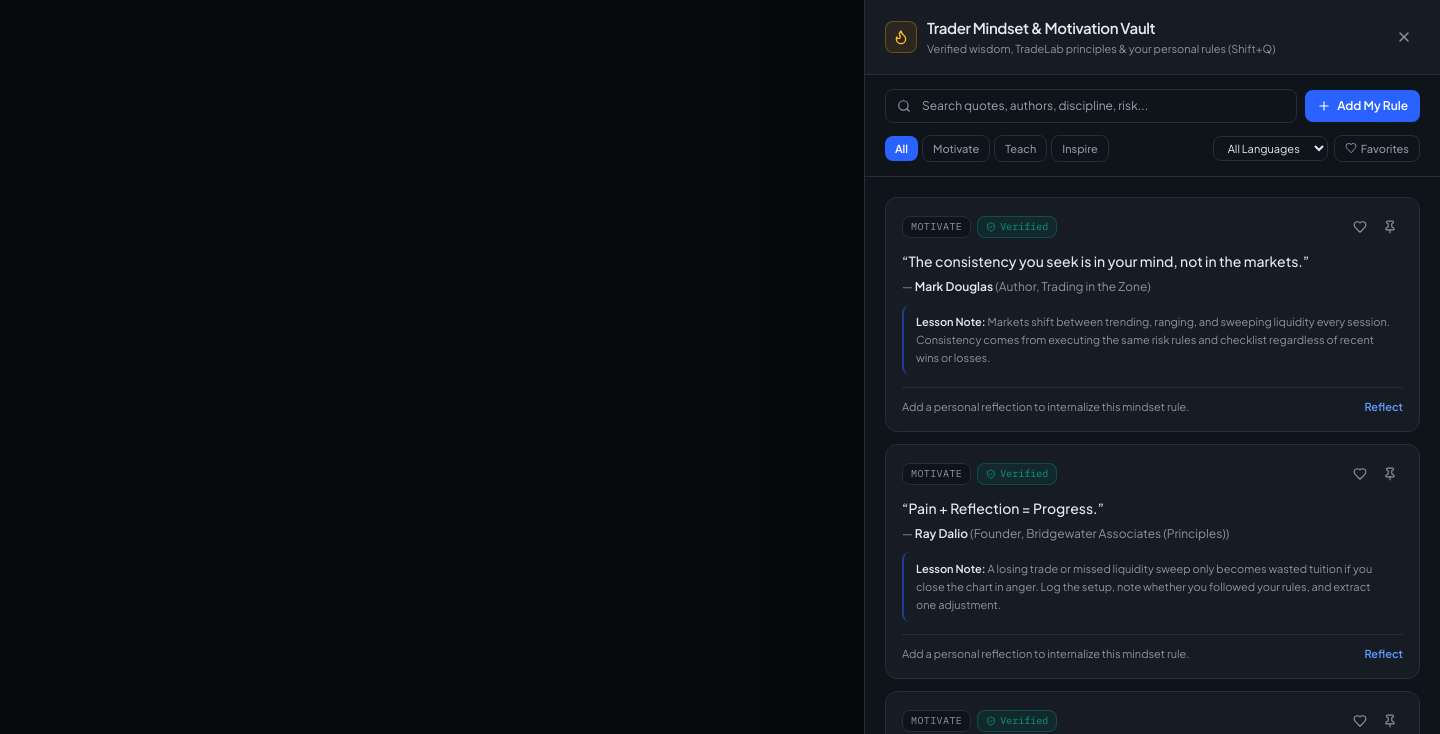
Test: MindsetVaultDrawer — filtering & custom personal trading rule creation › filters by Teach and creates and displays a custom personal trading rule
Expected: the heading "Trader Mindset & Motivation Vault" is shown, top-left (927, 18), bottom-right (1155, 37)
Expected: the element that starts with "motivate" is shown, top-left (885, 197), bottom-right (1420, 432)
Filter by Teach
Click the button "Teach" at coordinates (1021, 148), box top-left (994, 135), bottom-right (1047, 162)
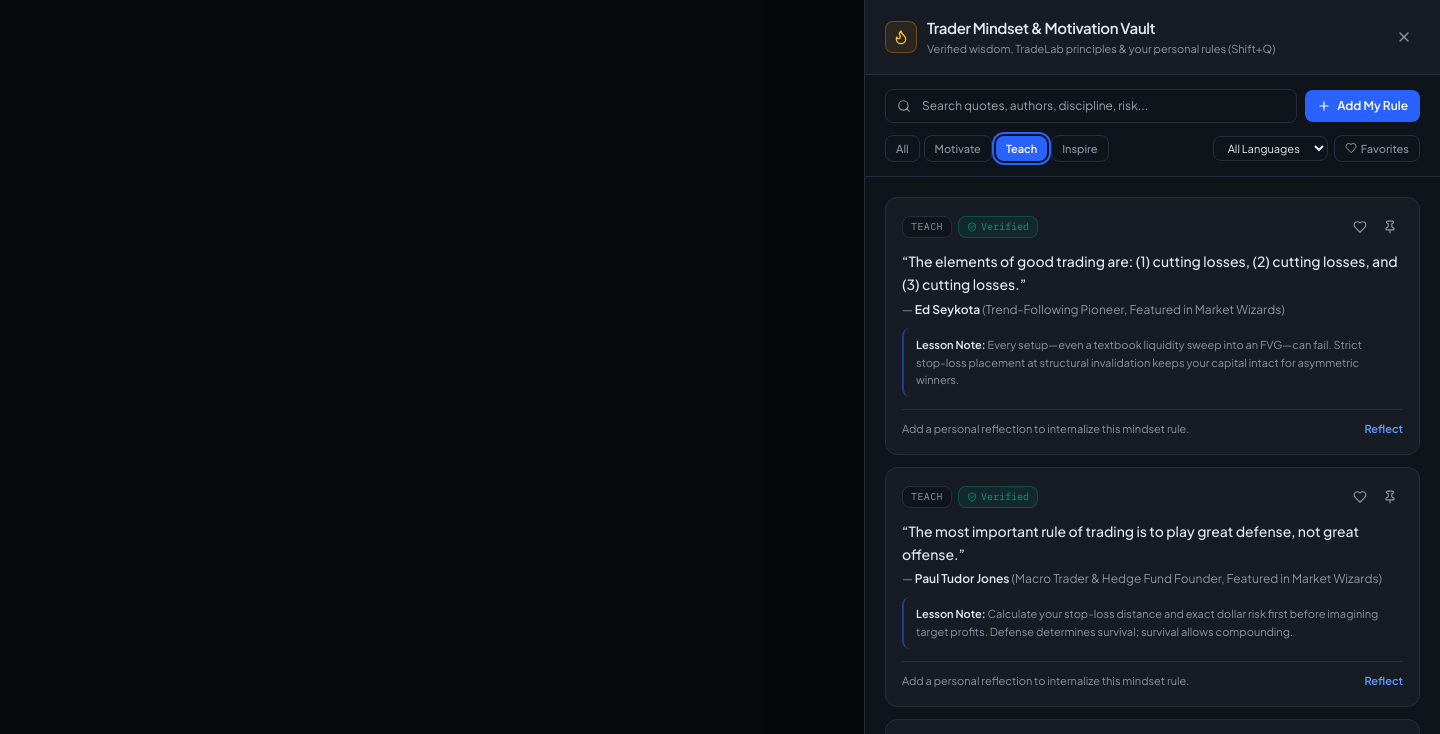
Open Add My Rule form and create a custom Teach rule
Click the button "Add My Rule" at coordinates (1363, 106), box top-left (1305, 90), bottom-right (1420, 122)
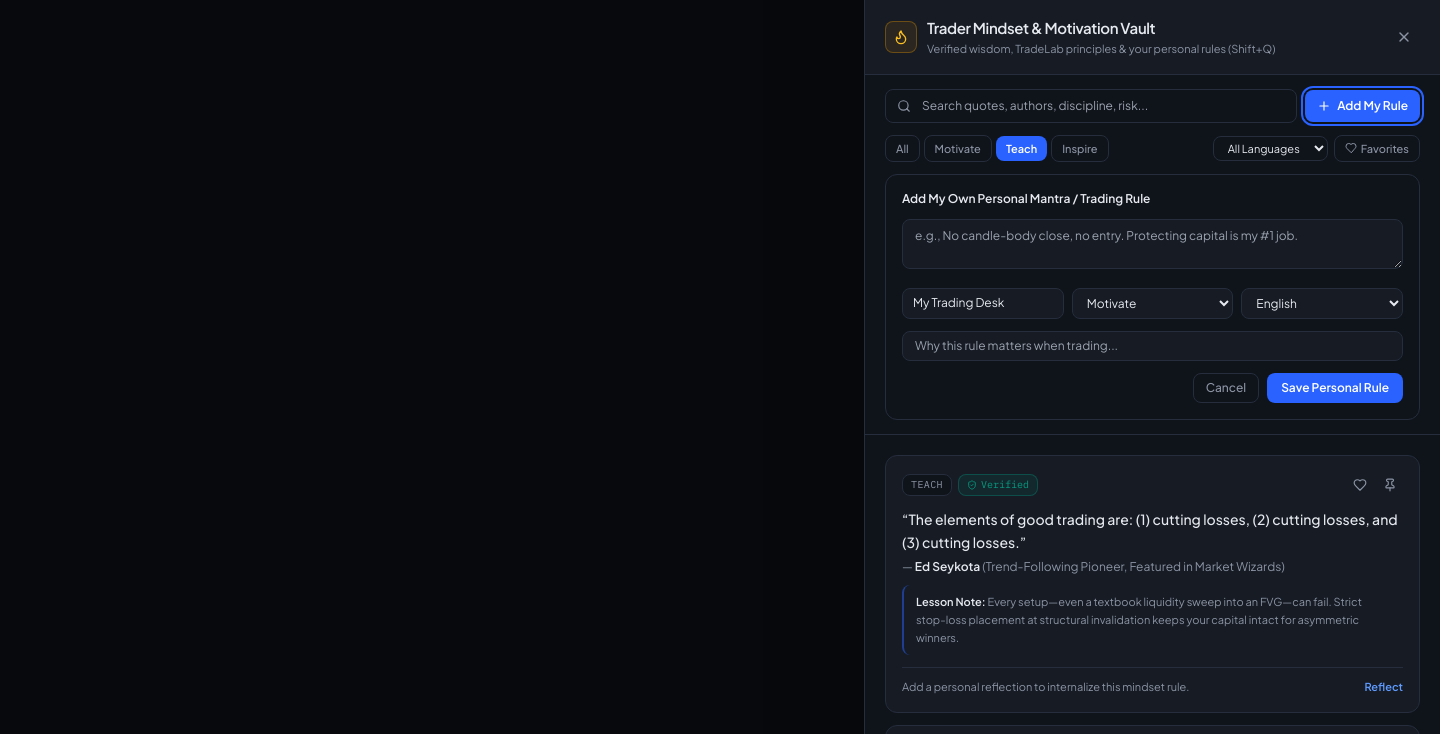
Type "Always verify liquidity sweep + displacement before risking 0.5R." into the text box with placeholder "No candle-body close, no entry" at coordinates (1152, 244), box top-left (902, 219), bottom-right (1403, 269)
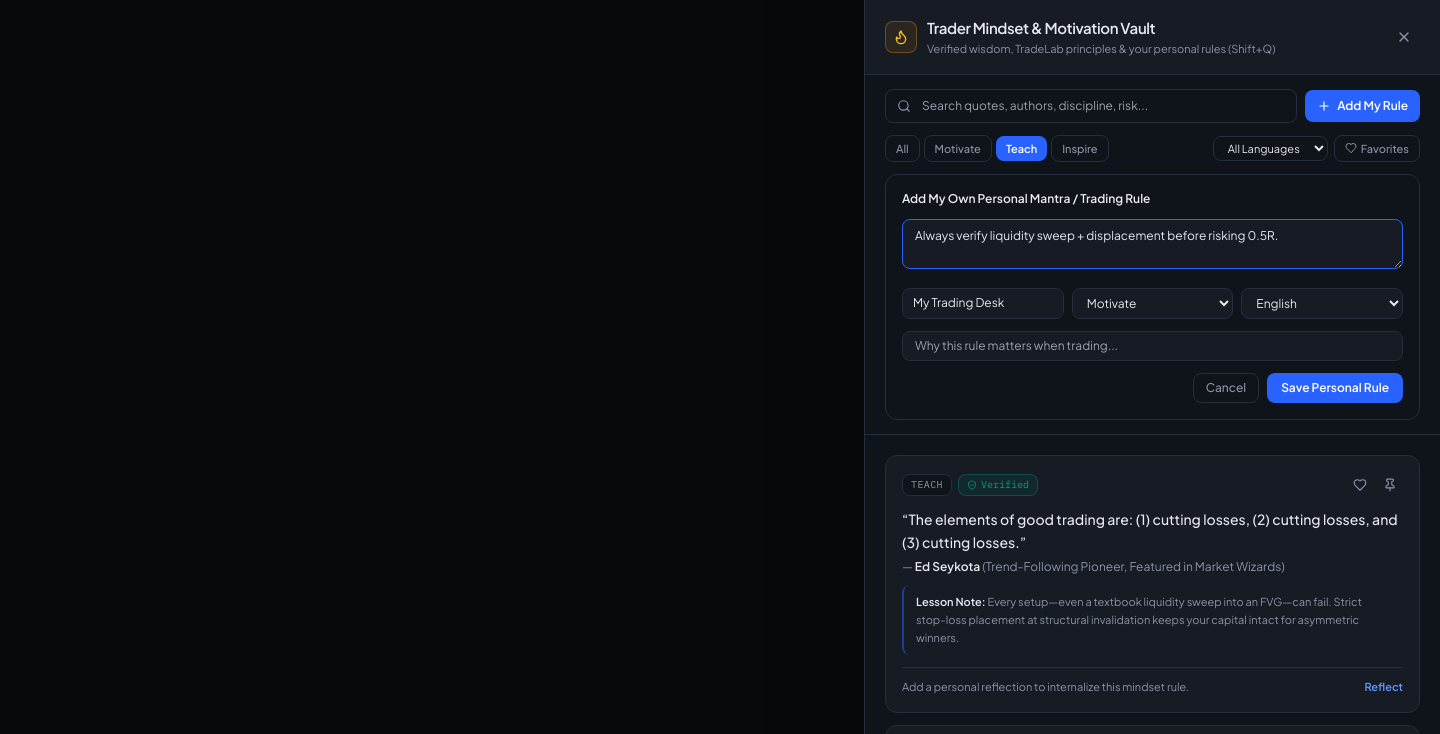
Select "Teach" in the dropdown named "Personal rule category" at coordinates (1153, 303), box top-left (1072, 288), bottom-right (1233, 319)
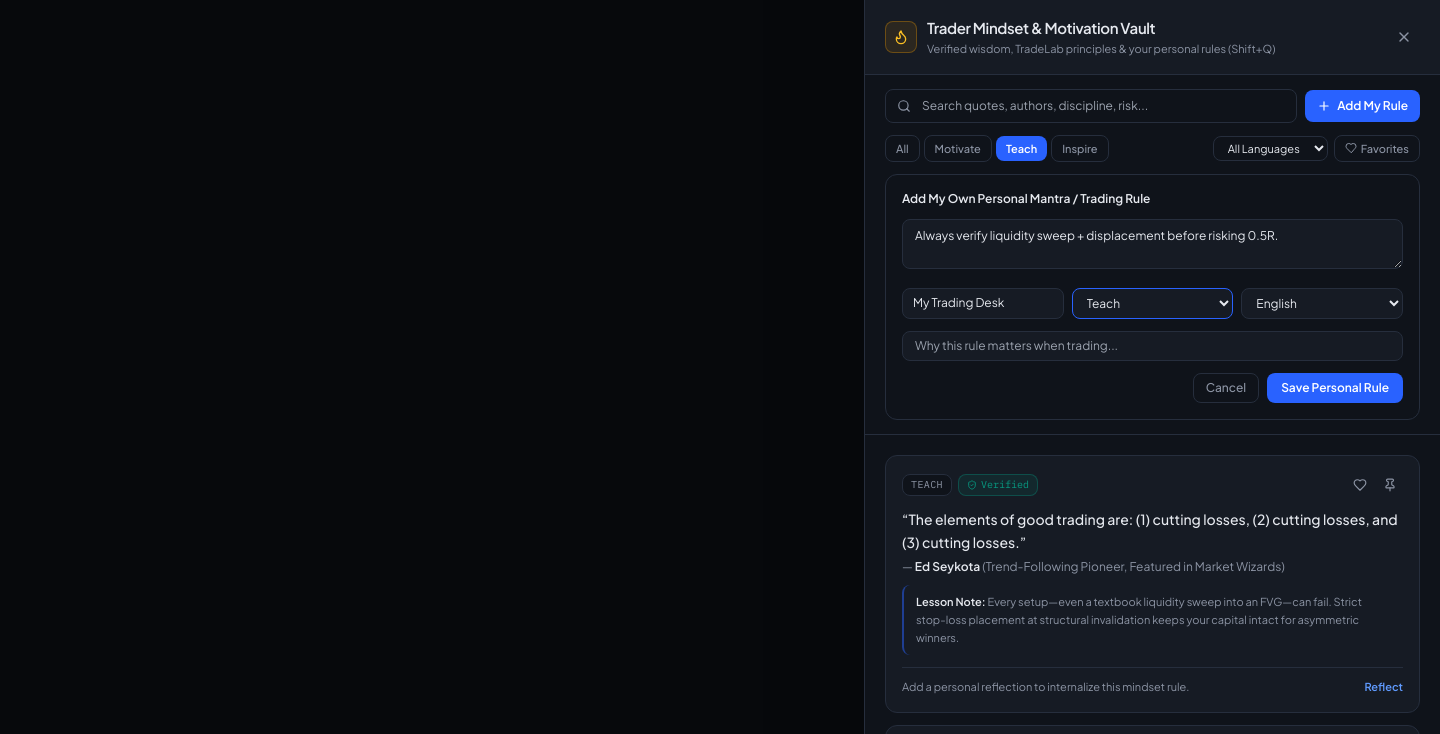
Type "Prevents impulsive mid-range entries." into the field with placeholder "Why this rule matters when trading..." at coordinates (1152, 346), box top-left (902, 331), bottom-right (1403, 361)
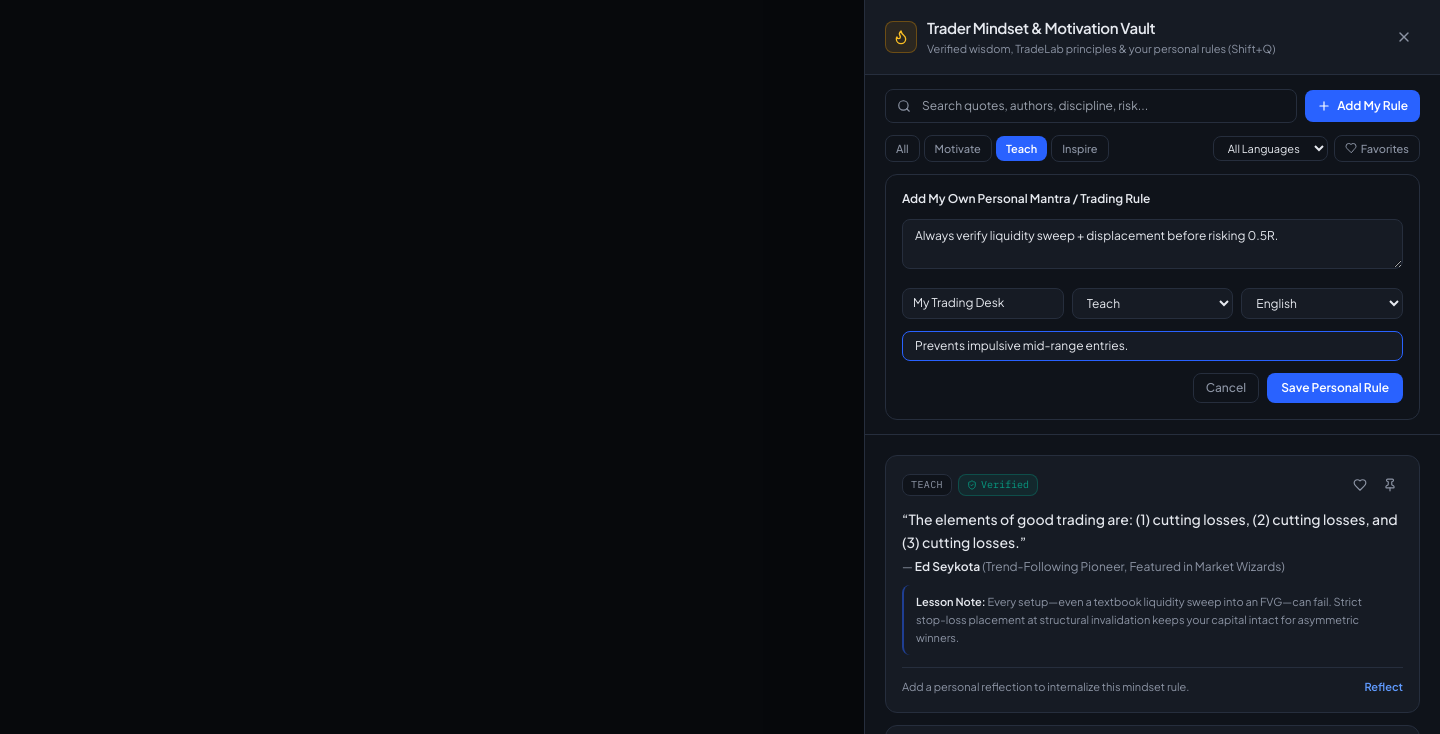
Click the button "Save Personal Rule" at coordinates (1335, 388), box top-left (1267, 373), bottom-right (1403, 403)
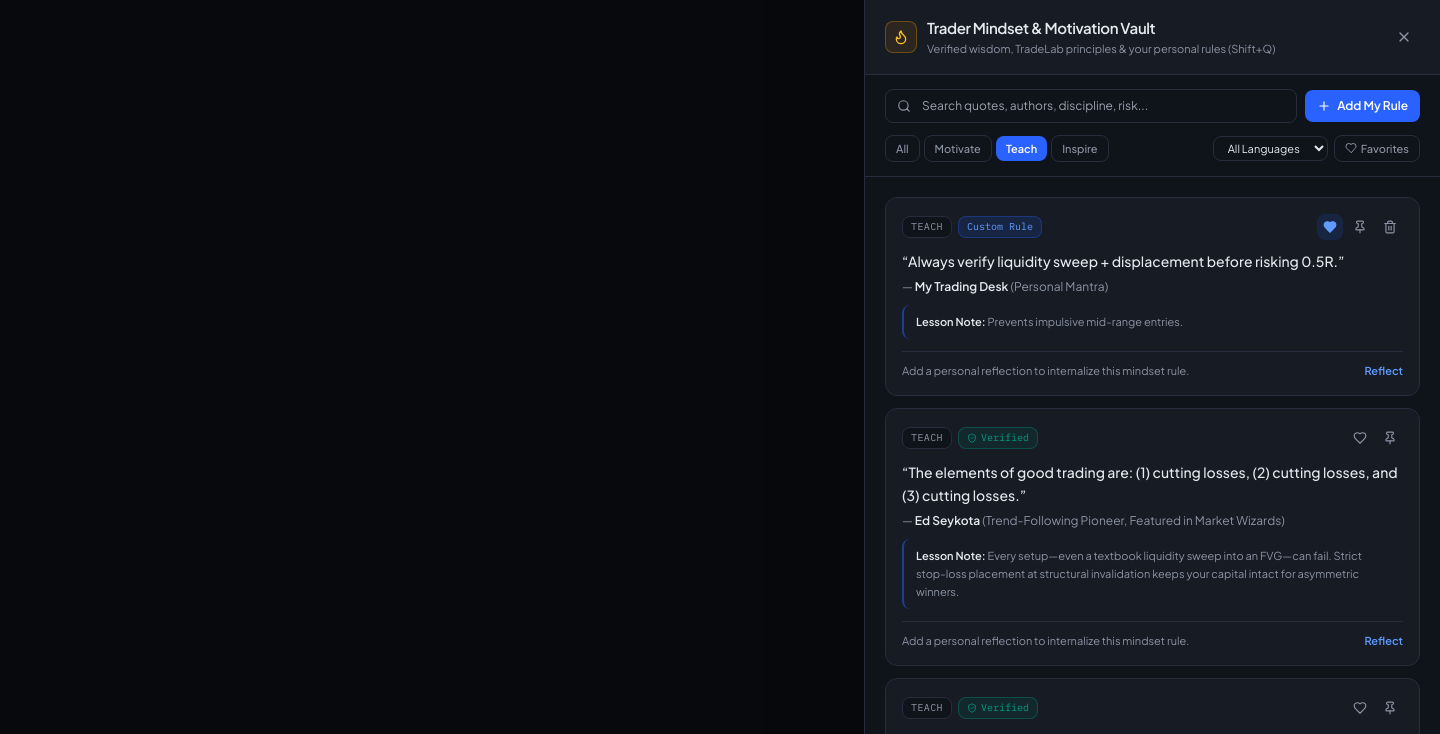
Expected: the text "Always verify liquidity sweep + displacement before risking 0.5R." is shown, top-left (908, 252), bottom-right (1338, 270)
Expected: the text "Custom Rule" is shown, top-left (958, 216), bottom-right (1042, 238)
